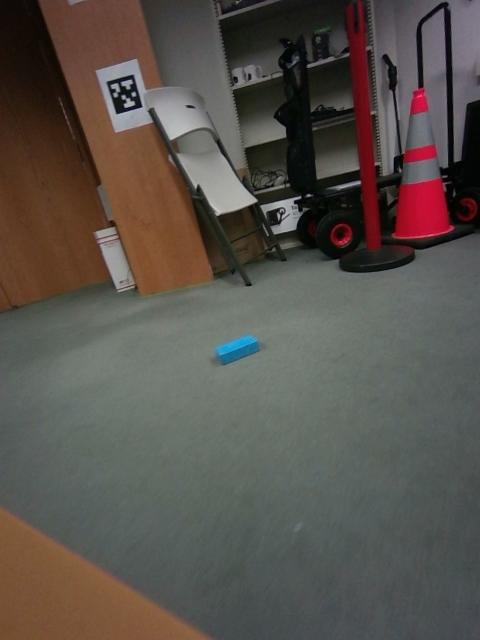block: (326, 281, 373, 349)
